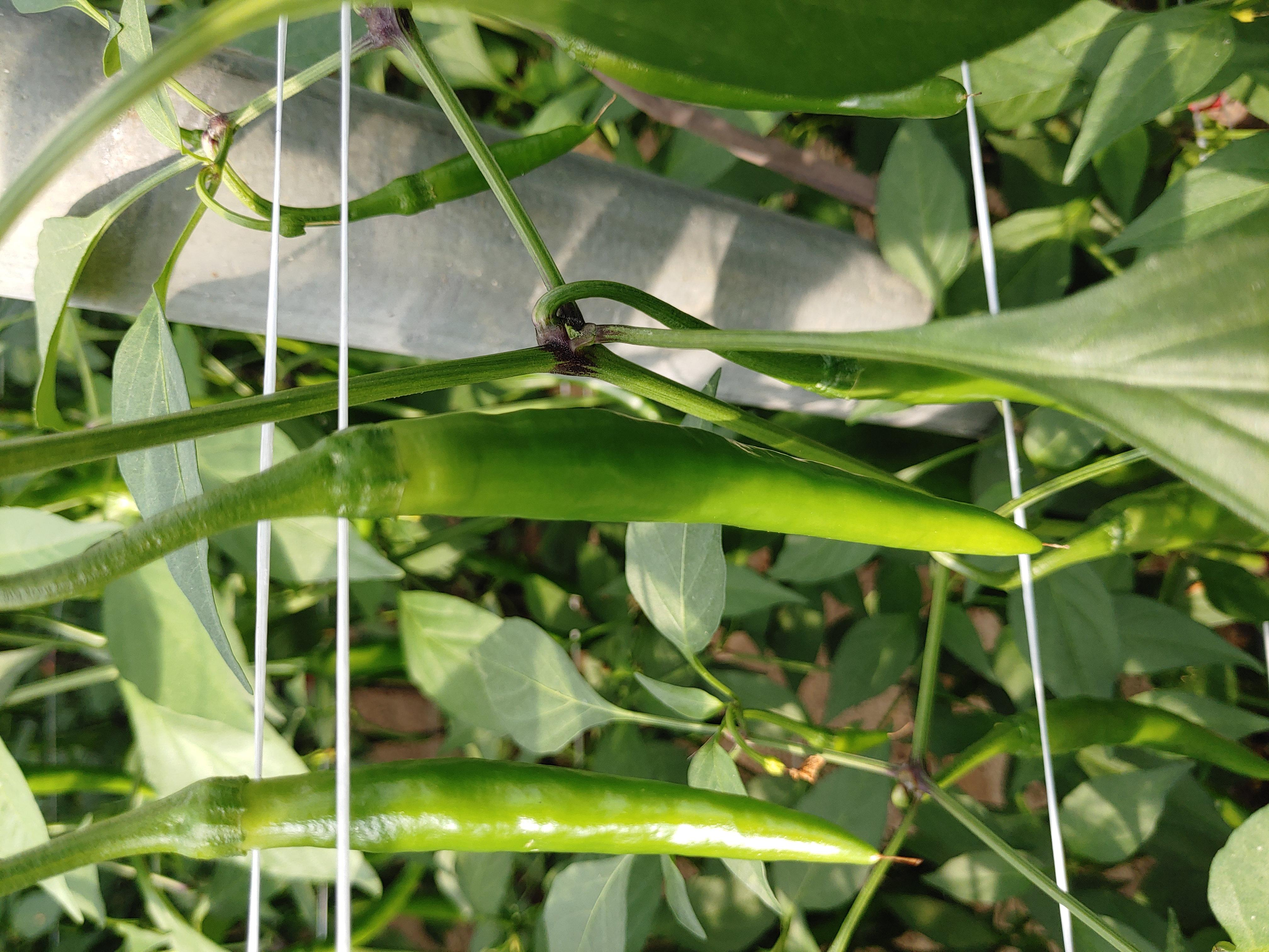Buah Cabai Sehat: (307, 399, 1041, 566), (148, 751, 896, 871)
